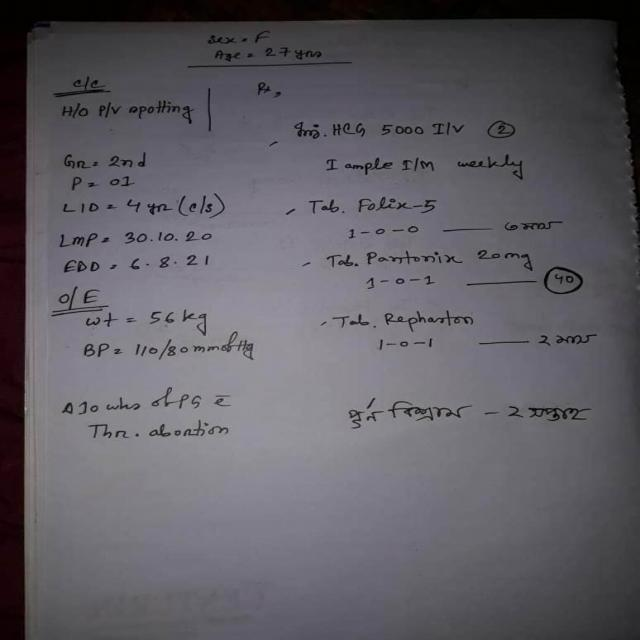Folix: (350, 192, 416, 219)
HCG: (326, 114, 376, 143)
Pantonix: (361, 244, 469, 271)
Rephaston: (377, 301, 485, 338)
